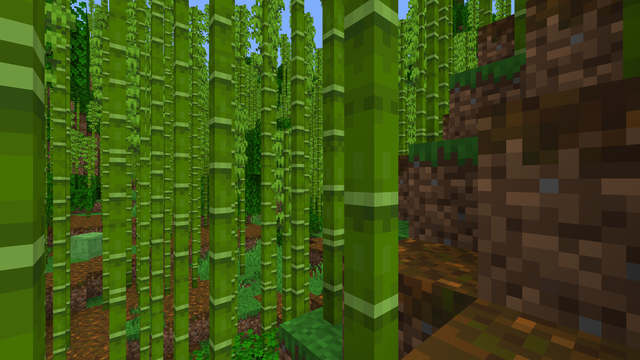slimes: (74, 231, 97, 259)
